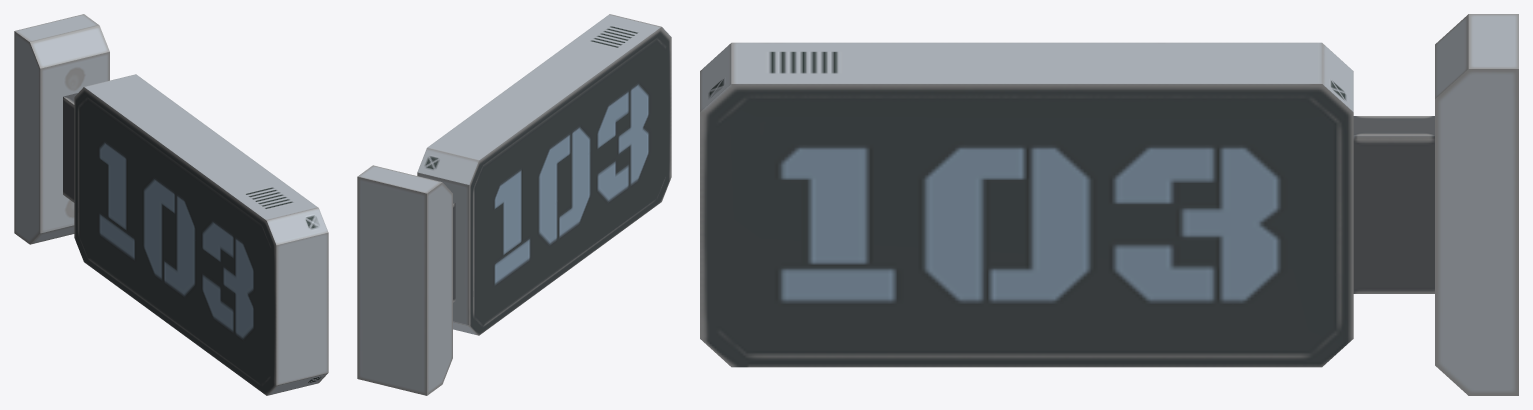
File: Prop_RoomPanel_103.fbx
3 views of the same model, side by side, from view 1: azimuth 30°, elevation 25°; view 2: azimuth 150°, elevation 25°; view 3: azimuth 270°, elevation 25° (orthographic). The views are drawn at different scales.
Parts seen in each view (by area): view 1: Prop_RoomPanel_103; view 2: Prop_RoomPanel_103; view 3: Prop_RoomPanel_103.
Boxes of the visible parts, x1,y1,x2,y2 form: Prop_RoomPanel_103: [14, 14, 328, 395]; Prop_RoomPanel_103: [357, 14, 671, 395]; Prop_RoomPanel_103: [700, 14, 1518, 395].
Bounding box in the file's own units: 8.3 × 23.04 × 52.27.
Materials: 1 (1 with a texture image).
